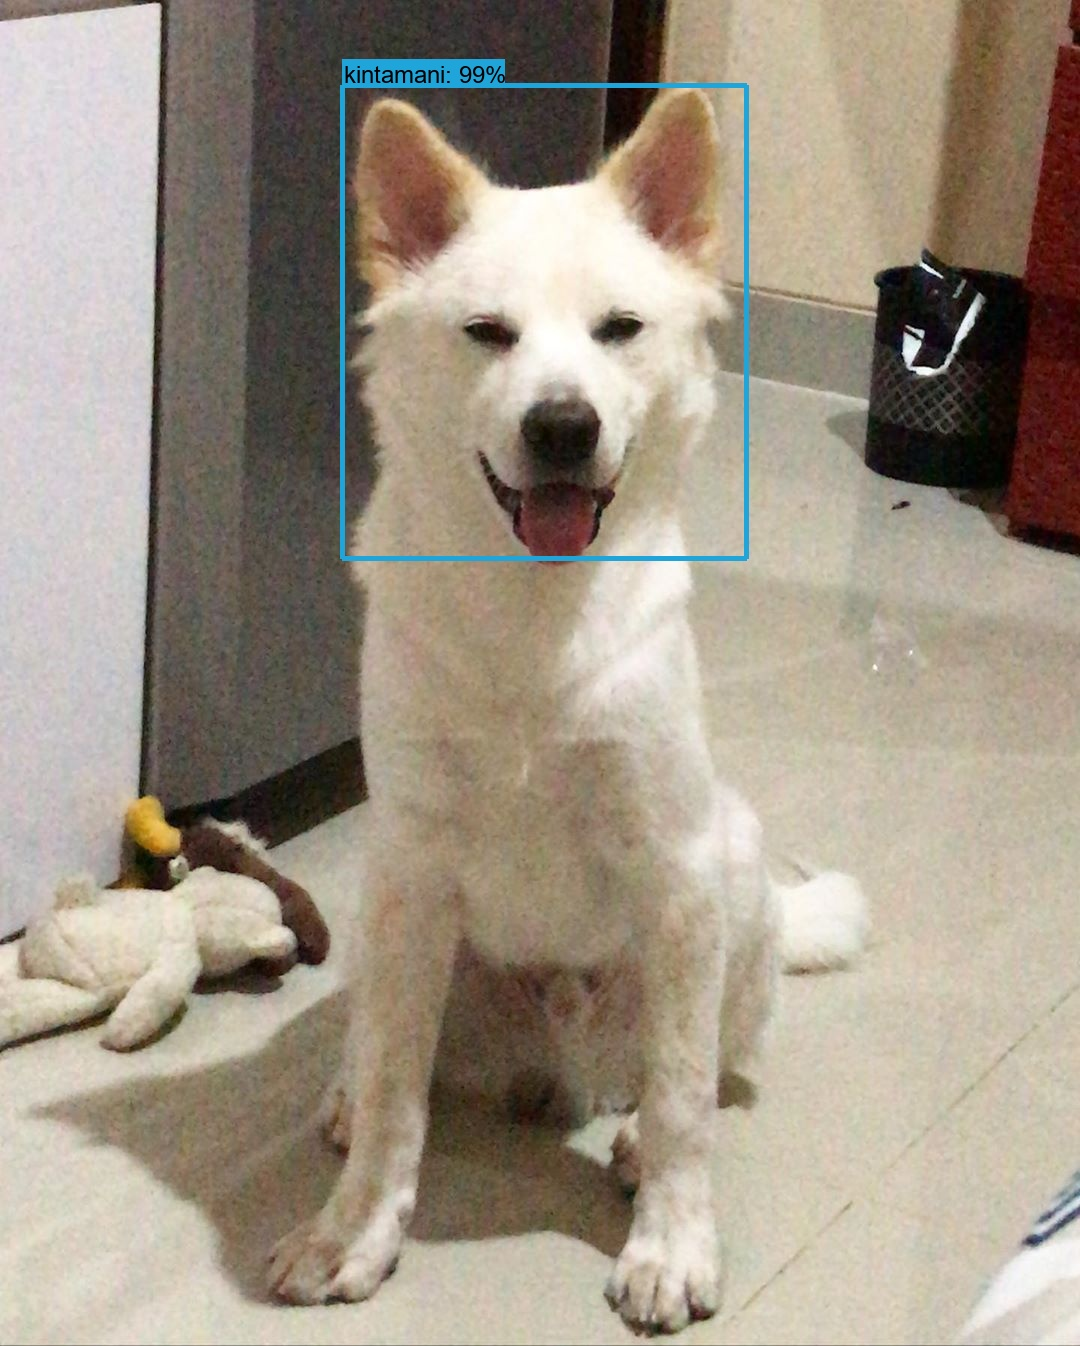kintamani: (333, 82, 744, 592)
